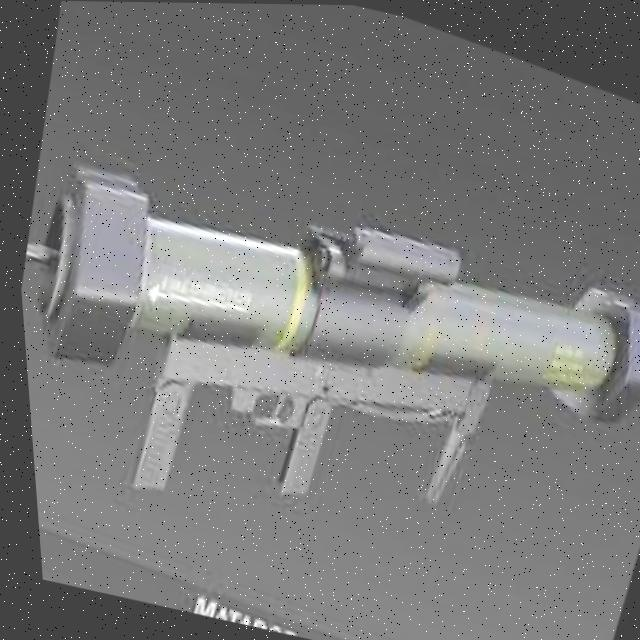rocket: (5, 84, 640, 640)
